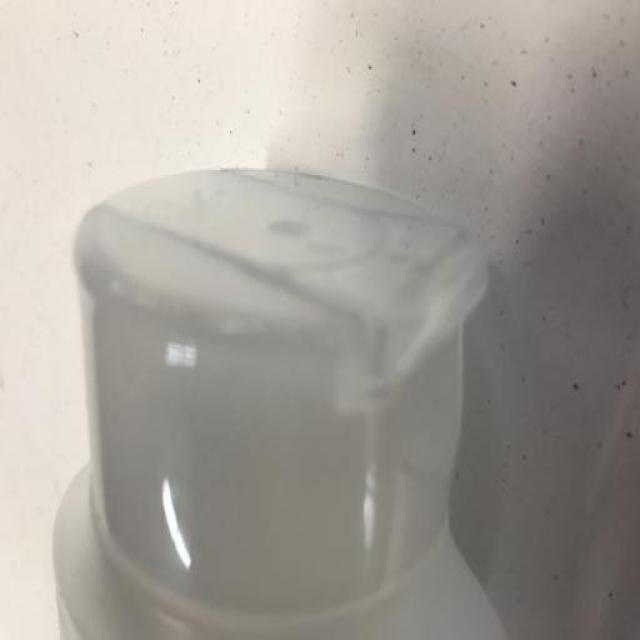plastic_bottle: (58, 156, 573, 640)
